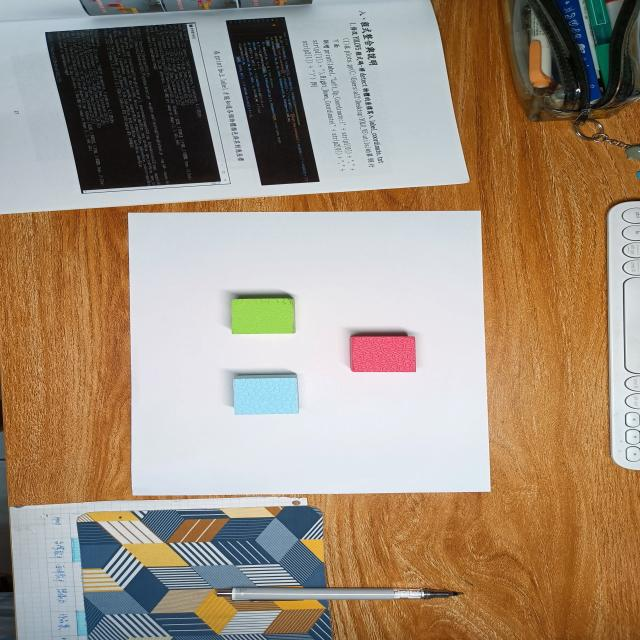BLUE: (232, 374, 302, 415)
GREEN: (230, 297, 295, 334)
RED: (348, 336, 417, 373)
